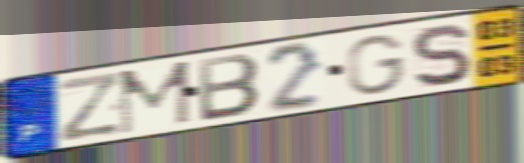2: (262, 40, 328, 117)
B: (196, 51, 262, 124)
G: (344, 32, 409, 98)
M: (117, 58, 193, 138)
S: (408, 21, 474, 90)
Z: (57, 70, 123, 146)
